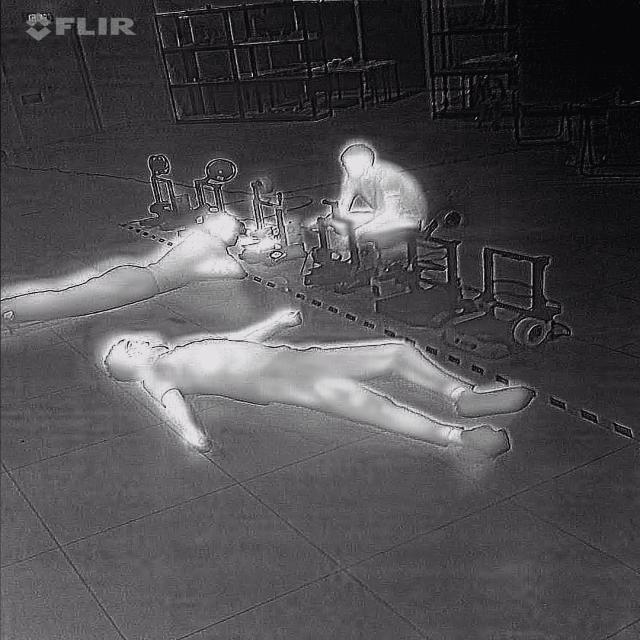Victim: (95, 304, 543, 468), (0, 199, 260, 327), (303, 138, 433, 248)
